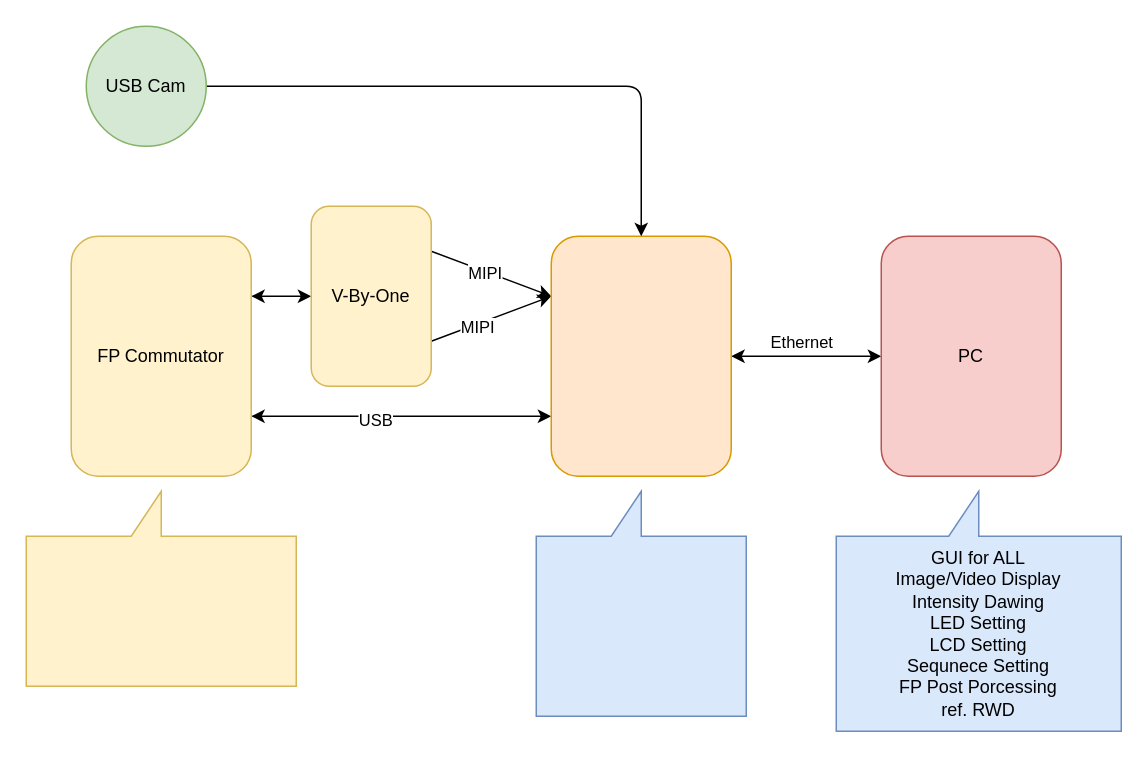
The diagram is 1148 pixels wide and 758 high, and some of its shapes have lost their labels. Here are the shapes that lost their labels. From the top down, the box of each, then its label:
(550, 235, 731, 476): Pi-5
(25, 490, 296, 686): PICO LED Control Sequence Control Camera is run by Hardware Trigger
(535, 490, 746, 716): Intensity Calculation Frame Rate Reduction Video to PC Proxy for LED/LCD Control
